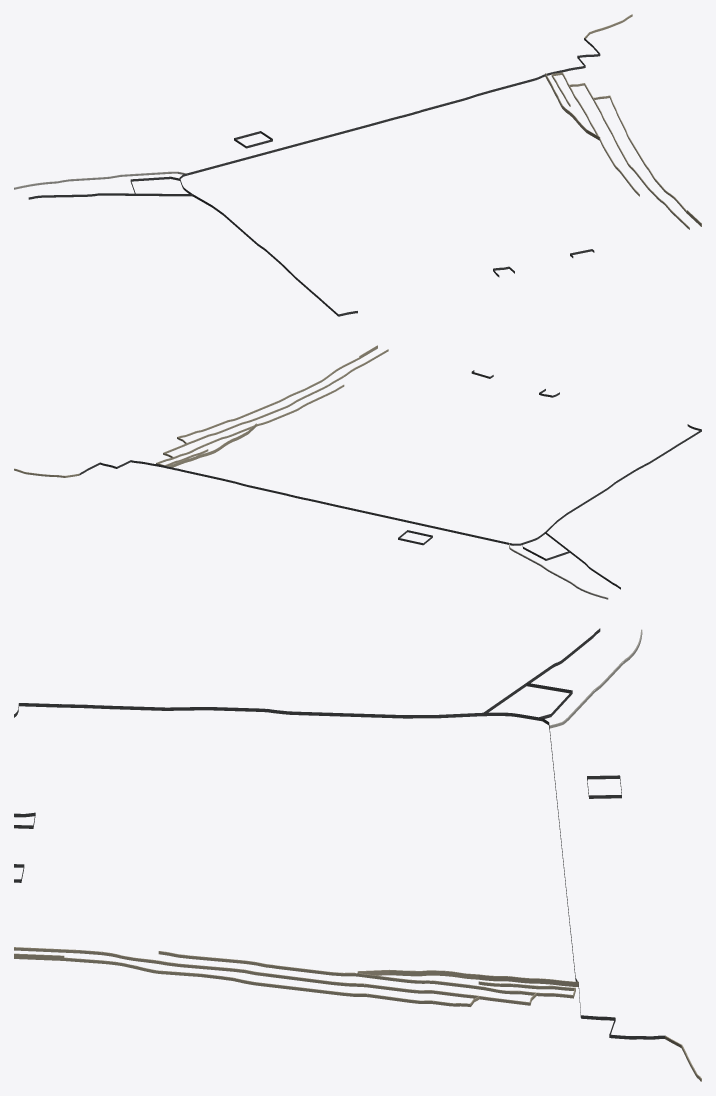
Rendered from walls.glb.
The picture shows the model from 3 angles, top to bottom: view 1: azimuth 30°, elevation 25°; view 2: azimuth 150°, elevation 25°; view 3: azimuth 270°, elevation 25°; orthographic projection. The views are drawn at different scales.
Parts seen in each view (by area): view 1: T_E1_N4_walls; view 2: T_E1_N4_walls; view 3: T_E1_N4_walls.
Part boxes in pixels (<box>): T_E1_N4_walls: <box>14,14,701,316</box>; T_E1_N4_walls: <box>14,345,701,599</box>; T_E1_N4_walls: <box>14,628,701,1081</box>.
Size of the model in its own units: 488 by 6.5 by 313.
